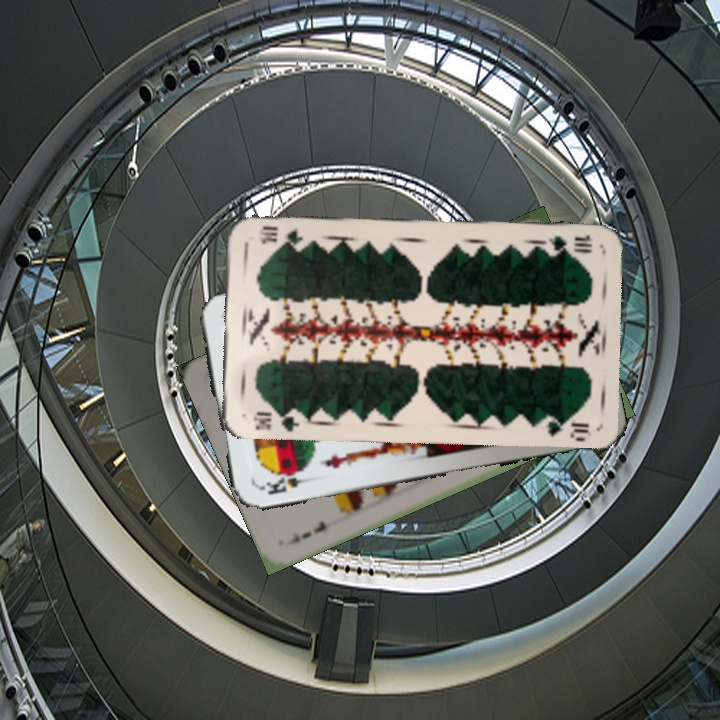E7: (282, 517, 330, 548)
G10: (249, 406, 302, 434), (539, 230, 595, 256)
SK: (256, 473, 316, 497)
